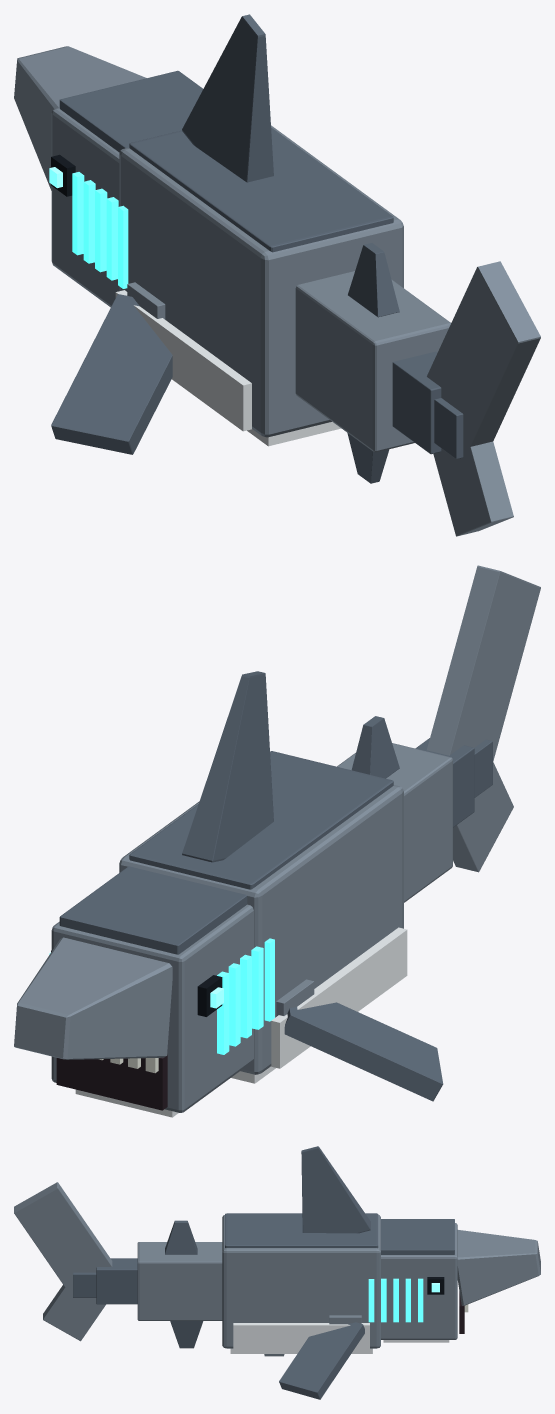
Rendered from shark.glb.
3 renders of one model, top to bottom at view 1: azimuth 30°, elevation 25°; view 2: azimuth 150°, elevation 25°; view 3: azimuth 270°, elevation 25°, orthographic. The views are drawn at different scales.
Parts seen in each view (by area): view 1: body, head, fin.tail, fin.R; view 2: body, head, fin.tail, fin.R; view 3: body, head, fin.tail, fin.L.
Boxes of the visible parts, x1,y1,x2,y2 form: body: (115,14,450,483); head: (14,46,202,307); fin.tail: (427,261,540,536); fin.R: (51,282,172,454); body: (119,671,474,1083); head: (14,866,274,1117); fin.tail: (427,565,540,872); fin.R: (276,979,443,1101); body: (96,1146,380,1356); head: (368,1219,540,1342); fin.tail: (14,1182,112,1341); fin.L: (279,1315,364,1399).
Size of the model in its own units: 1.06 by 1 by 2.3.
